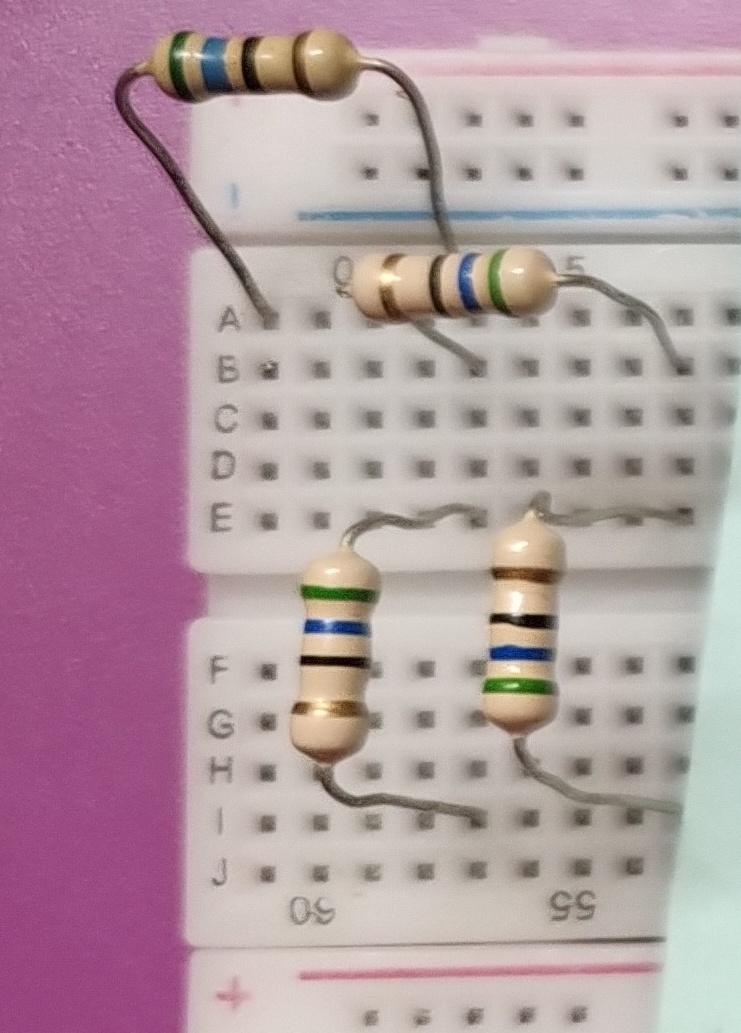resistor: (315, 225, 592, 332), (465, 505, 580, 758), (137, 20, 382, 115), (288, 530, 385, 760)
